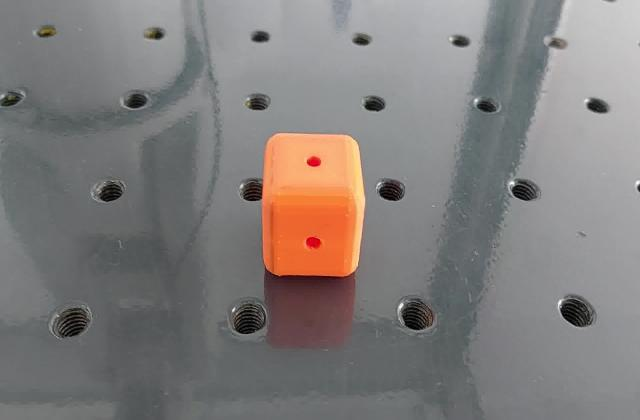cube: (258, 130, 370, 281)
